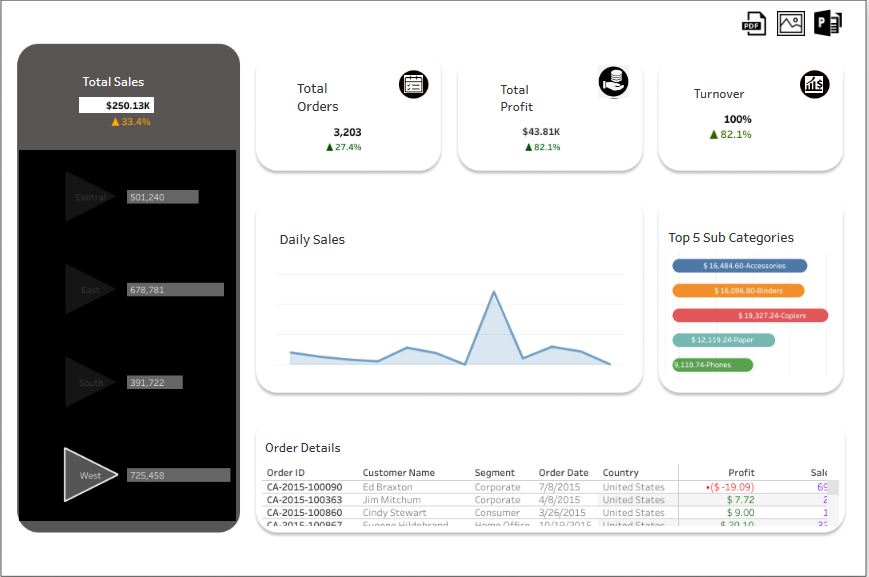

The dashboard page shown, as its layout file describes it:
{"tool":"tableau","page":{"name":"Dashboard 1","canvas":[1200,800],"ordinal":0},"visuals":[{"type":"image","param":"Image/Untitled (1).png","box":[8,8,1184,784]},{"type":"dashboard-object","box":[1055,48,37,35]},{"type":"dashboard-object","box":[960,49,42,33]},{"type":"dashboard-object","box":[1009,50,37,31]},{"type":"image","param":"Image/OIP.jpeg","box":[786,118,41,41]},{"type":"worksheet","title":"Total Sales","mark":"Automatic","cols":["Order Current Year  (copy)_47006354576130059"],"box":[138,121,240,85]},{"type":"worksheet","title":"Total Orders","mark":"Automatic","cols":["Profit Current Year (copy)_47006354571722758"],"box":[406,129,200,101]},{"type":"image","param":"Image/OIP (2).jpeg","box":[544,130,48,23]},{"type":"worksheet","title":"Total Profit","mark":"Automatic","cols":["Calculation_47006354566275074"],"box":[660,131,197,100]},{"type":"image","param":"Image/financial-progress-icon-vector.jpg","box":[1045,131,43,22]},{"type":"worksheet","title":"Turnover","mark":"Automatic","cols":["Calculation_47006354575212554"],"box":[902,137,204,110]},{"type":"worksheet","title":"region","mark":"Shape","rows":["Region"],"box":[63,209,180,479]},{"type":"worksheet","title":"Sales per region","mark":"Automatic","rows":["Region"],"cols":["Sales"],"box":[197,209,137,479]},{"type":"worksheet","title":"Top 5 Sub Categories","mark":"Line","rows":["Sub-Category"],"box":[870,315,213,192]},{"type":"worksheet","title":"Daily Sales","mark":"Automatic","rows":["Sales","Sales"],"cols":["Order Date"],"box":[384,317,435,187]},{"type":"worksheet","title":"Order Details","mark":"Automatic","rows":["Order ID","Customer Name","Segment","Order Date","Country"],"box":[366,579,721,115]}]}

Visuals, with their boxes in screenshot pixels (x1, y1, x2, y2), scaled from the page's 1200x800 canvas onto the 869x577 screenshot:
image: region(6, 6, 863, 571)
dashboard-object: region(764, 35, 791, 60)
dashboard-object: region(695, 35, 726, 59)
dashboard-object: region(731, 36, 757, 58)
image: region(569, 85, 599, 115)
"Total Sales" worksheet: region(100, 87, 274, 149)
"Total Orders" worksheet: region(294, 93, 439, 166)
image: region(394, 94, 429, 110)
"Total Profit" worksheet: region(478, 94, 621, 167)
image: region(757, 94, 788, 110)
"Turnover" worksheet: region(653, 99, 801, 178)
"region" worksheet (Shape marks): region(46, 151, 176, 496)
"Sales per region" worksheet: region(143, 151, 242, 496)
"Top 5 Sub Categories" worksheet (Line marks): region(630, 227, 784, 366)
"Daily Sales" worksheet: region(278, 229, 593, 364)
"Order Details" worksheet: region(265, 418, 787, 501)
